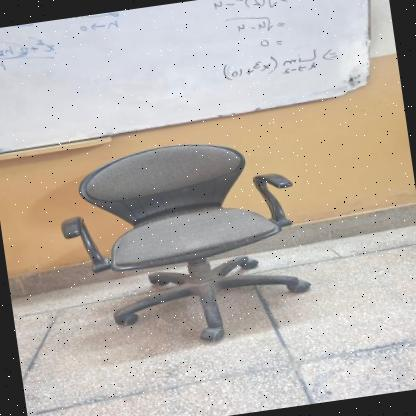chair: (45, 122, 322, 370)
